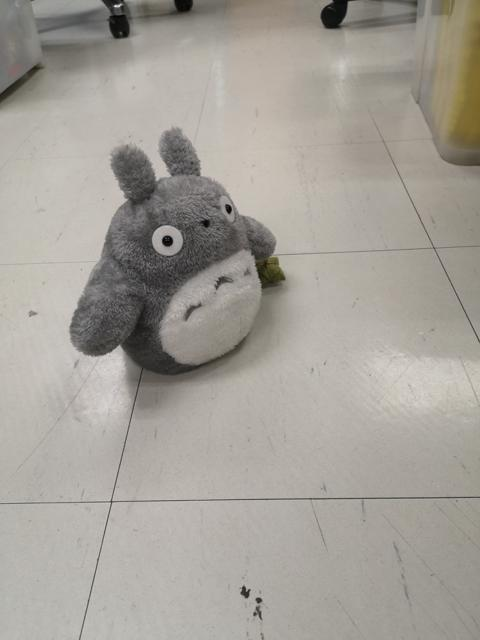totoro: (65, 121, 289, 379)
